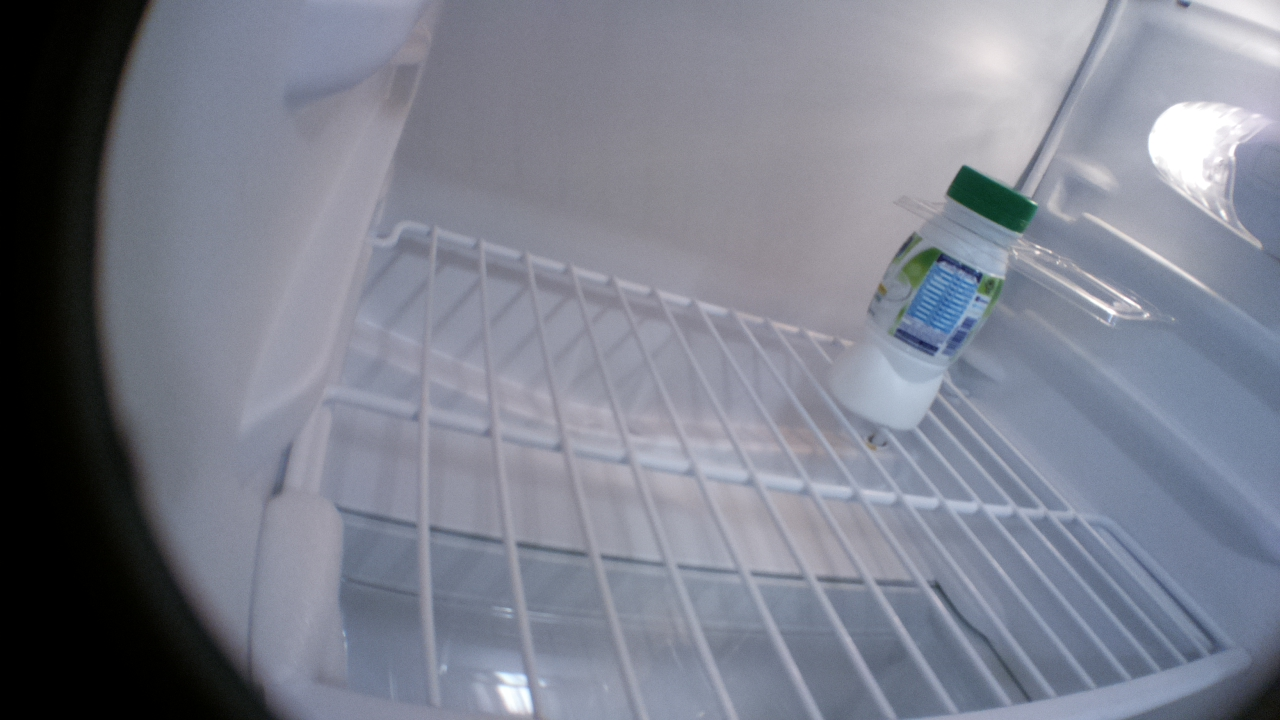laban: (828, 162, 1037, 432)
